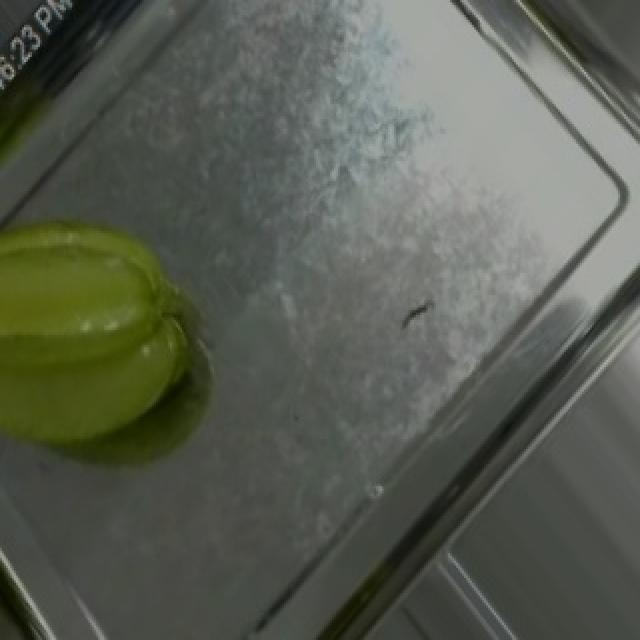fruit: (0, 166, 248, 514)
